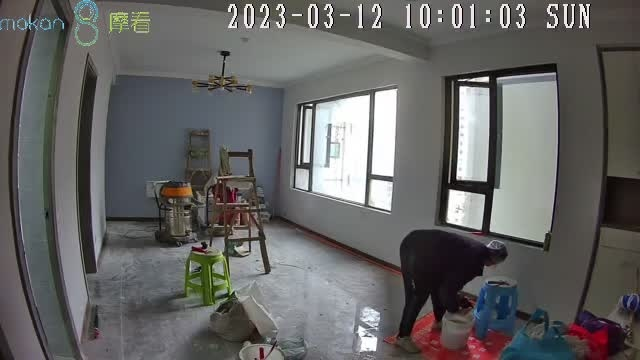people: (396, 228, 509, 354)
window: (439, 71, 557, 248), (293, 88, 397, 212)
